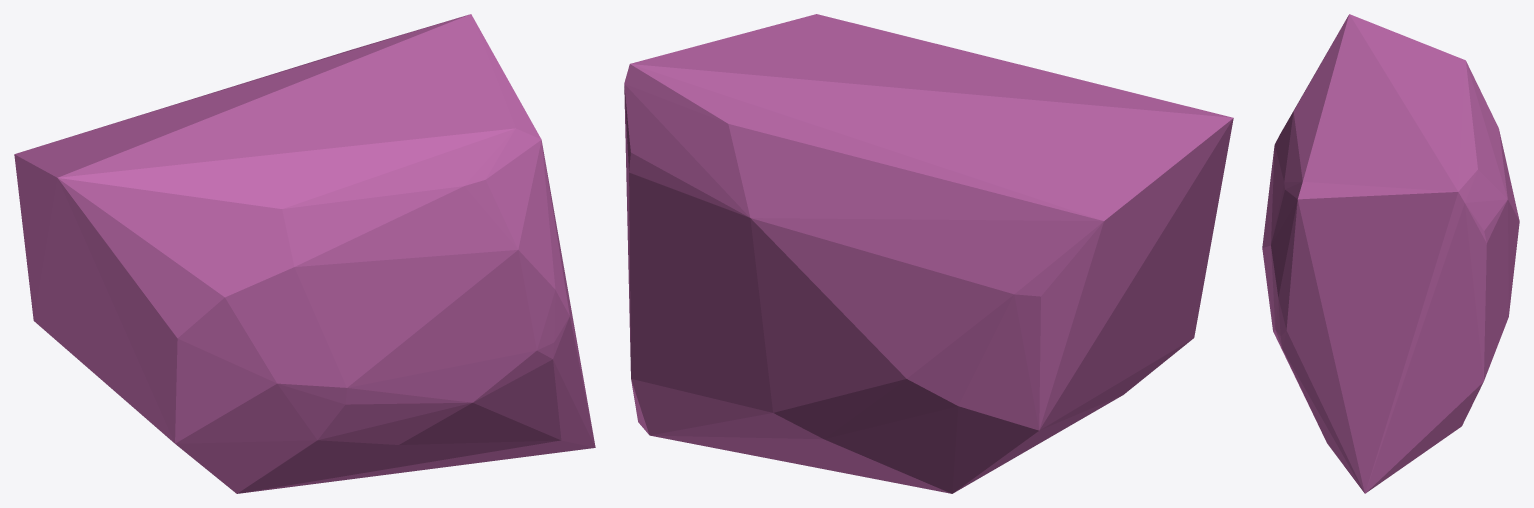
File: food_processed_chips_a01.glb
3 views of the same model, side by side, from view 1: azimuth 30°, elevation 25°; view 2: azimuth 150°, elevation 25°; view 3: azimuth 270°, elevation 25° (orthographic). The views are drawn at different scales.
Parts seen in each view (by area): view 1: geometry_0; view 2: geometry_0; view 3: geometry_0.
Boxes of the visible parts, x1,y1,x2,y2 form: geometry_0: (14, 14, 595, 493); geometry_0: (624, 14, 1233, 493); geometry_0: (1262, 14, 1519, 493).
Bounding box in the file's own units: 0.3912 × 0.2805 × 0.2251.
